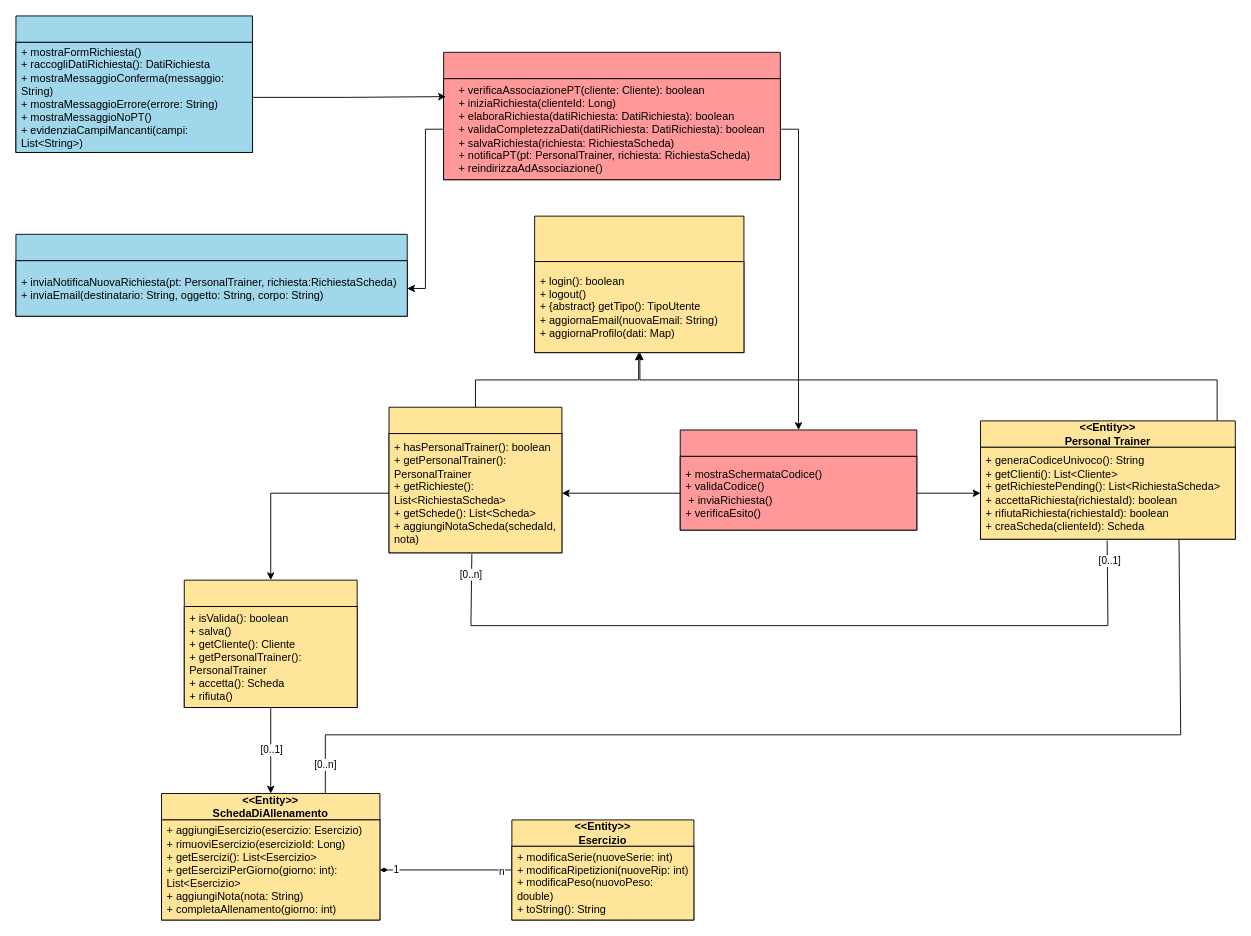
This 1251x936 diagram has some shape labels left out. Here are the shapes that lost their labels. From the top down, the box of each, then its label:
(15, 15, 253, 152): <<Boundary>> ClienteRichiediSchedaBoundary
(443, 51, 780, 180): <<Controller>> RichiediSchedaController
(15, 233, 407, 316): <<Boundary>> SistemaNotificaPTBoundary
(534, 215, 744, 353): <<Entity>> <<abstract>> Utente
(388, 406, 562, 553): <<Entity>> Cliente
(679, 429, 917, 530): <<Controller>> AssociaPTController
(183, 579, 357, 708): <<Entity>> RichiestaScheda
